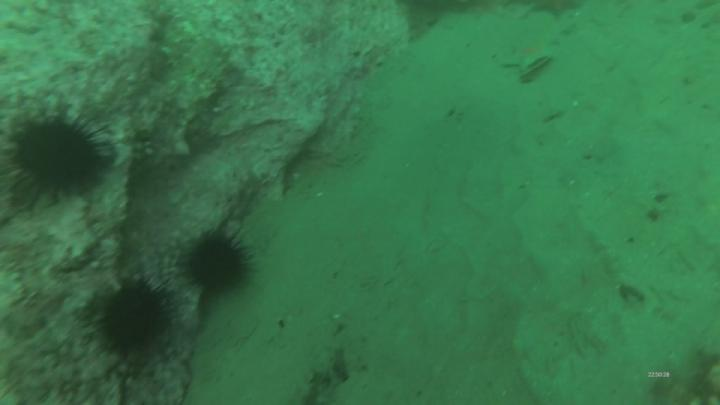echinus: (1, 105, 118, 205), (86, 275, 179, 366), (177, 221, 258, 299)
holothurian: (651, 359, 720, 405)
starfish: (493, 32, 563, 81)
